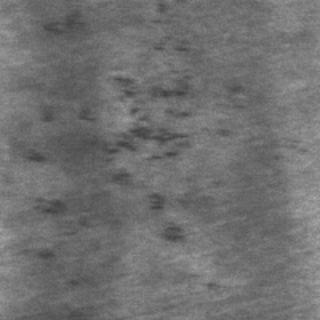rolled pit: (90, 56, 202, 244), (22, 100, 94, 264)
